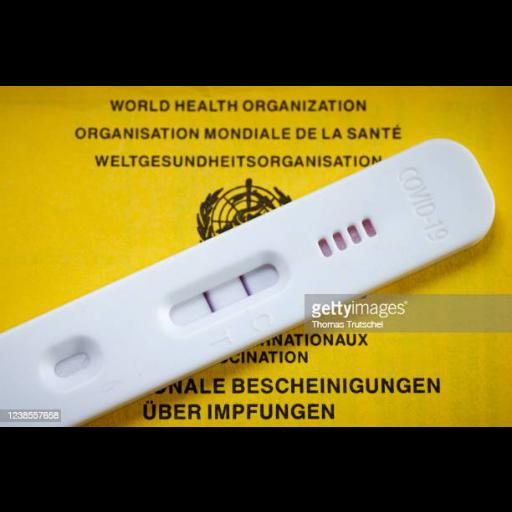Pos: (17, 128, 510, 426)
